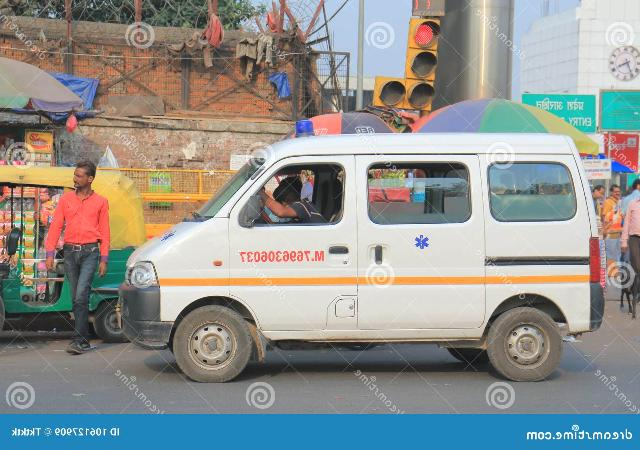ambulance: (119, 134, 604, 382)
